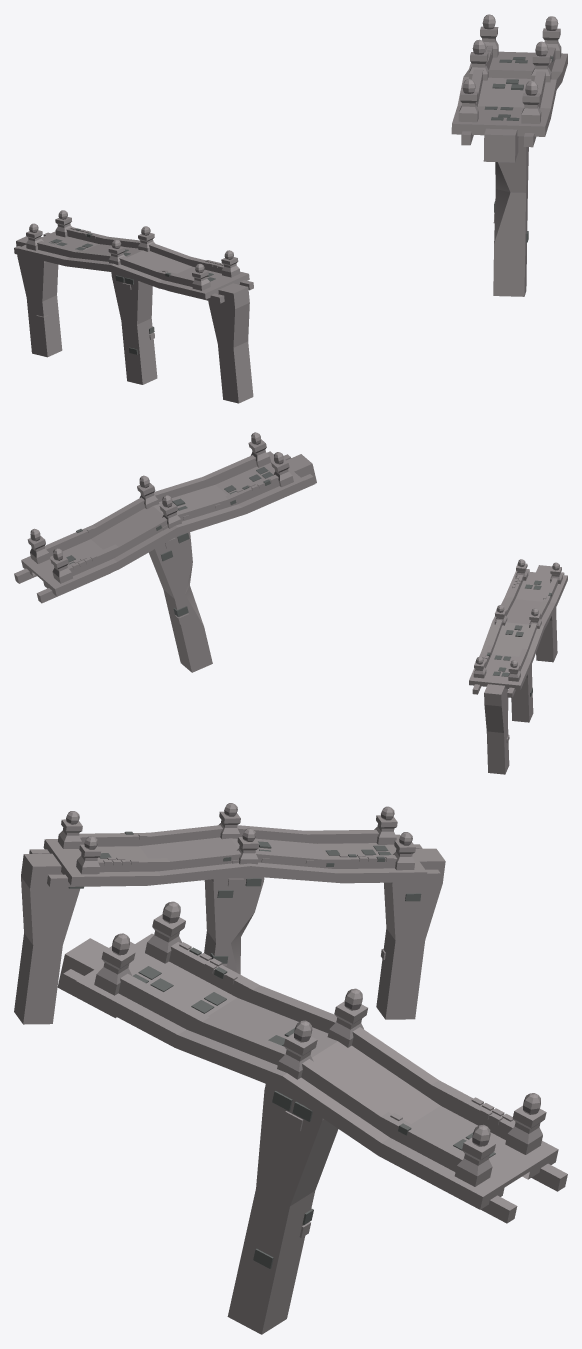
Rendered from Bridge.glb.
3 views of the same model, one above another, from view 1: azimuth 30°, elevation 25°; view 2: azimuth 150°, elevation 25°; view 3: azimuth 270°, elevation 25° (orthographic). The views are drawn at different scales.
Visible parts, largest first — view 1: bridge; view 2: bridge; view 3: bridge.
Boxes of the visible parts, x1,y1,x2,y2 form: bridge: (14, 14, 567, 403); bridge: (14, 432, 567, 774); bridge: (14, 803, 567, 1334).
Size of what is drawn, in the model's own units: 86.41 by 36.41 by 49.38.
1 material, 1 textured.
